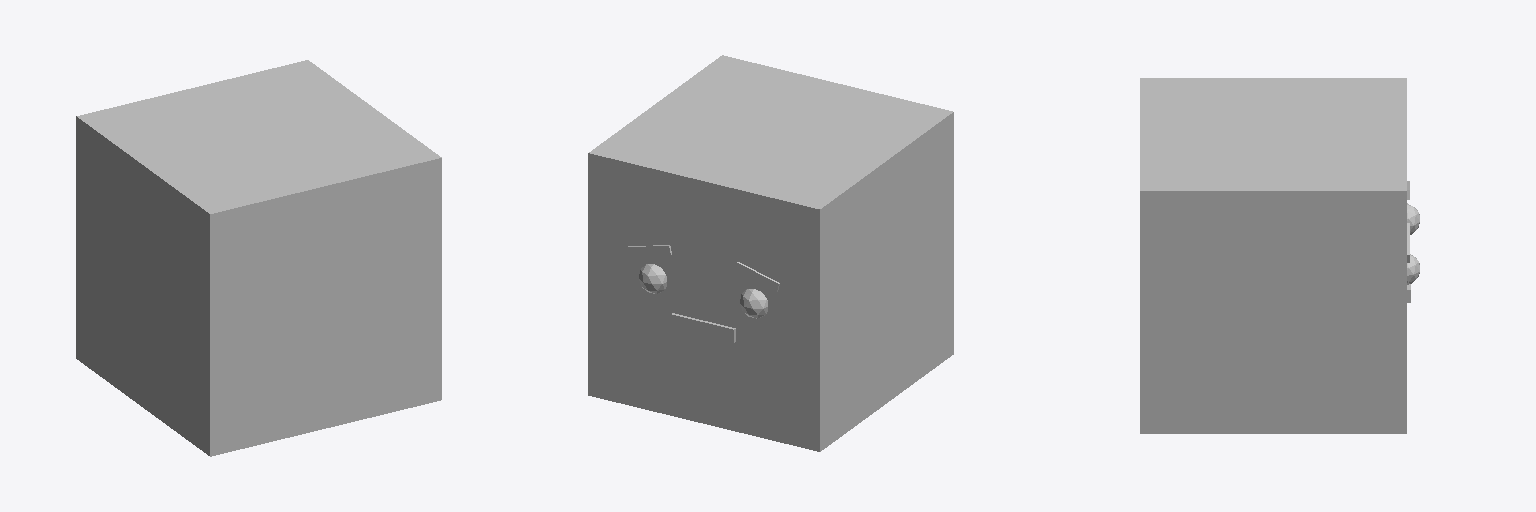
Rendered from Player.obj.
3 renders of one model, left to right at view 1: azimuth 30°, elevation 25°; view 2: azimuth 150°, elevation 25°; view 3: azimuth 270°, elevation 25°, orthographic.
Visible parts, largest first — view 1: Cube.004_Cube.006; view 2: Cube.004_Cube.006; view 3: Cube.004_Cube.006.
Part boxes in pixels (left/top/right/bottom): Cube.004_Cube.006: left=76, top=60, right=441, bottom=456; Cube.004_Cube.006: left=588, top=55, right=953, bottom=451; Cube.004_Cube.006: left=1140, top=78, right=1419, bottom=433.
Size of the model in its own units: 1 by 1 by 1.05.